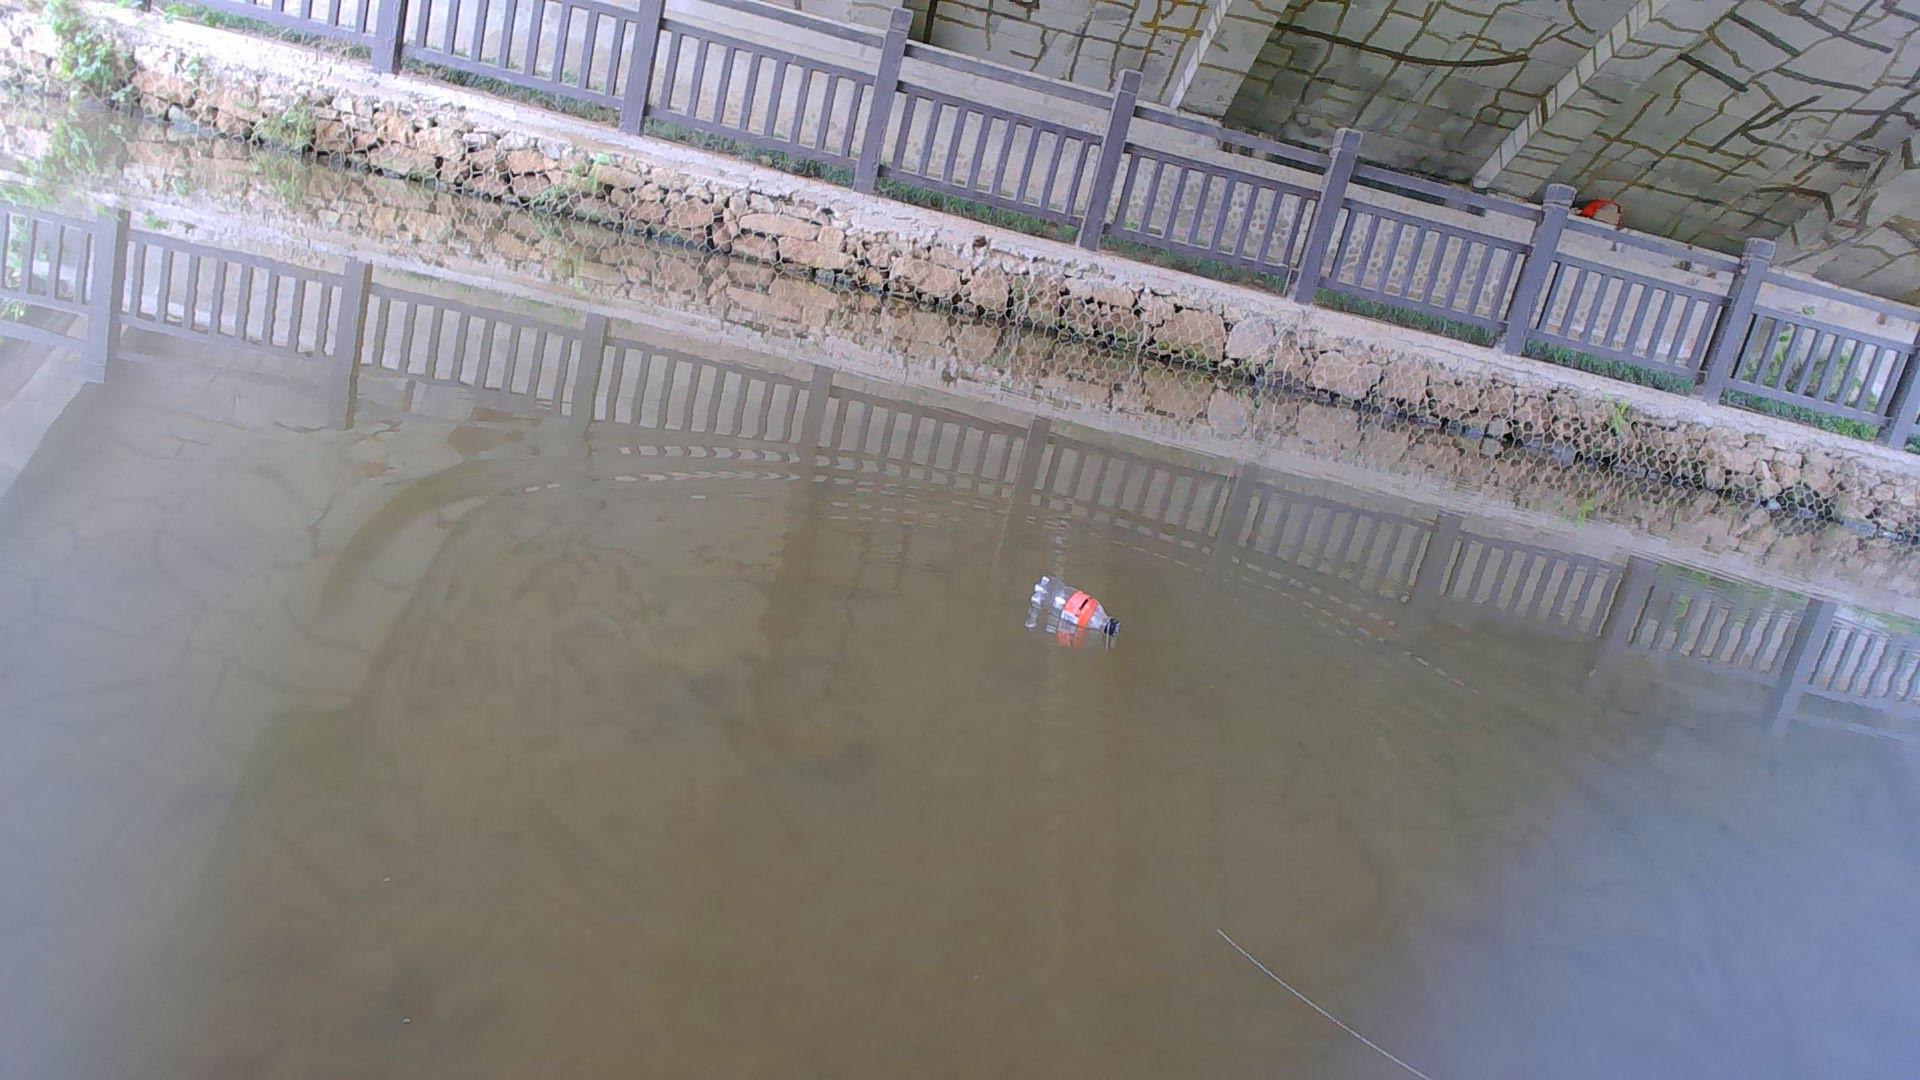Plastic: (1029, 571, 1125, 644)
